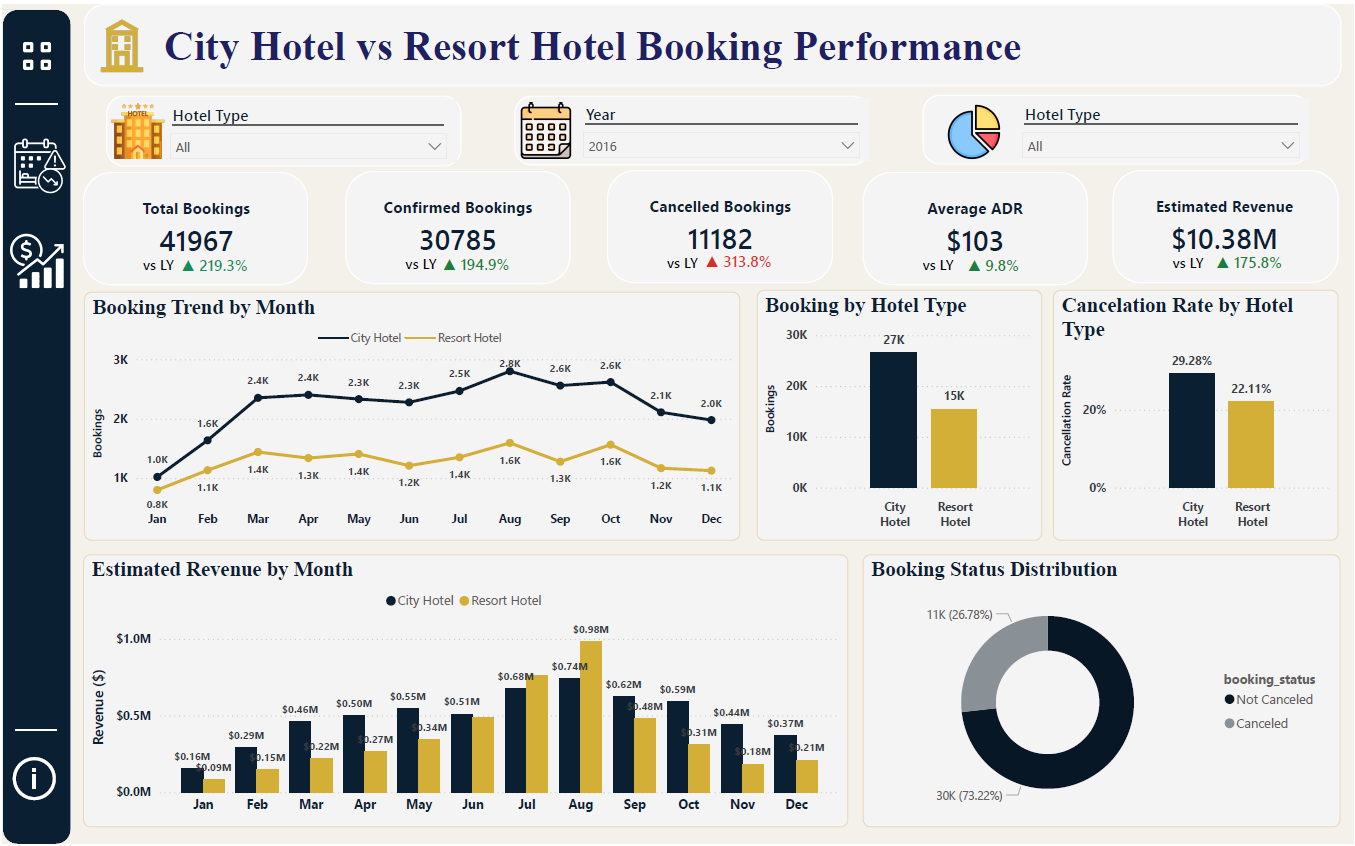

The dashboard page shown, as its layout file describes it:
{"tool":"powerbi","page":{"name":"Overview","canvas":[1400,870],"ordinal":0},"visuals":[{"type":"shape","box":[83.7,0,1303.1,85.2],"z":0},{"type":"image","box":[82.7,5.1,78.9,76.3],"z":1000},{"type":"textbox","box":[161.8,13.9,956.8,79.5],"z":2000},{"type":"shape","box":[0,5.8,70,864.5],"z":3000},{"type":"actionButton","box":[4.4,774.1,61.2,56.9],"z":4000},{"type":"image","box":[0,25.3,70,56.7],"z":5000},{"type":"image","box":[0,125,70,56],"z":6000},{"type":"image","box":[0,225,70,56],"z":7000},{"type":"image","box":[0,325,70,56],"z":8000},{"type":"image","box":[0,425,70,56],"z":9000},{"type":"shape","box":[13.3,82,43.4,43.4],"z":10000},{"type":"shape","box":[13.1,730.3,42.3,43.7],"z":11000},{"type":"shape","box":[107.1,95.3,368,72.4],"z":12000},{"type":"slicer","fields":{"Values":["public dim_hotel.hotel"]},"box":[162.6,98.9,307.6,63.9],"z":13000},{"type":"image","box":[107.1,102.5,65.1,57.9],"z":14000},{"type":"shape","box":[530.2,94.6,368,72.4],"z":15000},{"type":"slicer","fields":{"Values":["public dim_date.year"]},"box":[591.3,98.1,307.2,63.5],"z":16000},{"type":"image","box":[530.2,101.9,65.1,57.9],"z":17000},{"type":"shape","box":[952.7,93.5,401.5,72],"z":18000},{"type":"slicer","fields":{"Values":["public dim_hotel.hotel"]},"box":[1046.3,97.9,308,63.3],"z":19000},{"type":"image","box":[974.3,103.6,64.8,57.6],"z":20000},{"type":"shape","box":[82.8,173.8,233.6,116.8],"z":21000},{"type":"cardVisual","fields":{"Data":["fact_bookings.Total Bookings"]},"box":[89.6,180.6,221.4,100.5],"z":22000},{"type":"cardVisual","fields":{"Data":["fact_bookings.Total Bookings vs LY Label"]},"box":[127.7,232.2,183.4,65.2],"z":23000},{"type":"textbox","box":[139.9,254,48.9,36.7],"z":24000},{"type":"shape","box":[354.6,173,233.6,116.8],"z":25000},{"type":"cardVisual","fields":{"Data":["measure.Confirmed Bookings"]},"box":[361.4,179.8,221.4,100.5],"z":26000},{"type":"cardVisual","fields":{"Data":["measure.Confirmed Bookings vs LY Label"]},"box":[399.4,231.4,183.4,65.2],"z":27000},{"type":"textbox","box":[411.7,253.1,48.9,36.7],"z":28000},{"type":"shape","box":[626,171.8,233.6,116.8],"z":29000},{"type":"cardVisual","fields":{"Data":["measure.Cancelled Bookings"]},"box":[632.8,178.6,221.4,100.5],"z":30000},{"type":"cardVisual","fields":{"Data":["measure.Cancelled Bookings vs LY Label"]},"box":[670.9,228.2,183.6,65.5],"z":31000},{"type":"textbox","box":[683,251.9,48.9,36.7],"z":32000},{"type":"shape","box":[890.5,173.9,233.6,116.8],"z":33000},{"type":"cardVisual","fields":{"Data":["measure.Average ADR"]},"box":[897.3,180.7,221.4,100.5],"z":34000},{"type":"cardVisual","fields":{"Data":["measure.Average ADR vs LY Label"]},"box":[935.3,232.3,183.4,65.2],"z":35000},{"type":"textbox","box":[947.5,254.1,48.9,36.7],"z":36000},{"type":"shape","box":[1150.3,172.3,233.6,116.8],"z":37000},{"type":"cardVisual","fields":{"Data":["measure.Total Estimated Revenue"]},"box":[1155.9,178.8,220.6,100.9],"z":38000},{"type":"cardVisual","fields":{"Data":["measure.Total Estimated Revenue vs LY Label"]},"box":[1199.9,230.1,183.8,64.3],"z":39000},{"type":"textbox","box":[1207.3,252.4,48.9,36.7],"z":40000},{"type":"lineChart","title":"Booking Trend by Month","fields":{"Category":["dim_date.month_short"],"Y":["measure.Total Bookings"],"Series":["dim_hotel.hotel"]},"box":[83.7,298.5,680.6,258],"z":41000},{"type":"columnChart","title":"Booking by Hotel Type","fields":{"Category":["dim_hotel.hotel"],"Y":["measure.Total Bookings"]},"box":[781,295.7,295.7,260.8],"z":42000},{"type":"columnChart","title":"Cancelation Rate by Hotel Type","fields":{"Category":["dim_hotel.hotel"],"Y":["measure.Cancellation Rate"]},"box":[1087.9,295.7,295.7,260.8],"z":43000},{"type":"clusteredColumnChart","title":"Estimated Revenue by Month","fields":{"Category":["dim_date.month_short"],"Series":["dim_hotel.hotel"],"Y":["measure.Total Estimated Revenue"]},"box":[83.1,570,793,282.8],"z":44000},{"type":"donutChart","title":"Booking by Market Segment","fields":{"Category":["fact_bookings.booking_status"],"Y":["measure.Total Bookings"]},"box":[890.7,570,495.6,282.8],"z":45000}]}

Visuals, with their boxes on the page's 1400x870 design canvas (x1, y1, x2, y2). These are canvas units, not pixel positions in the 1355x846 screenshot, which may show the page scaled, cropped or inside an application window:
shape: [84, 0, 1387, 85]
image: [83, 5, 162, 81]
textbox: [162, 14, 1119, 93]
shape: [0, 6, 70, 870]
actionButton: [4, 774, 66, 831]
image: [0, 25, 70, 82]
image: [0, 125, 70, 181]
image: [0, 225, 70, 281]
image: [0, 325, 70, 381]
image: [0, 425, 70, 481]
shape: [13, 82, 57, 125]
shape: [13, 730, 55, 774]
shape: [107, 95, 475, 168]
slicer - public dim_hotel.hotel: [163, 99, 470, 163]
image: [107, 102, 172, 160]
shape: [530, 95, 898, 167]
slicer - public dim_date.year: [591, 98, 898, 162]
image: [530, 102, 595, 160]
shape: [953, 94, 1354, 166]
slicer - public dim_hotel.hotel: [1046, 98, 1354, 161]
image: [974, 104, 1039, 161]
shape: [83, 174, 316, 291]
cardVisual - fact_bookings.Total Bookings: [90, 181, 311, 281]
cardVisual - fact_bookings.Total Bookings vs LY Label: [128, 232, 311, 297]
textbox: [140, 254, 189, 291]
shape: [355, 173, 588, 290]
cardVisual - measure.Confirmed Bookings: [361, 180, 583, 280]
cardVisual - measure.Confirmed Bookings vs LY Label: [399, 231, 583, 297]
textbox: [412, 253, 461, 290]
shape: [626, 172, 860, 289]
cardVisual - measure.Cancelled Bookings: [633, 179, 854, 279]
cardVisual - measure.Cancelled Bookings vs LY Label: [671, 228, 854, 294]
textbox: [683, 252, 732, 289]
shape: [890, 174, 1124, 291]
cardVisual - measure.Average ADR: [897, 181, 1119, 281]
cardVisual - measure.Average ADR vs LY Label: [935, 232, 1119, 298]
textbox: [948, 254, 996, 291]
shape: [1150, 172, 1384, 289]
cardVisual - measure.Total Estimated Revenue: [1156, 179, 1376, 280]
cardVisual - measure.Total Estimated Revenue vs LY Label: [1200, 230, 1384, 294]
textbox: [1207, 252, 1256, 289]
"Booking Trend by Month" lineChart: [84, 298, 764, 556]
"Booking by Hotel Type" columnChart: [781, 296, 1077, 556]
"Cancelation Rate by Hotel Type" columnChart: [1088, 296, 1384, 556]
"Estimated Revenue by Month" clusteredColumnChart: [83, 570, 876, 853]
"Booking by Market Segment" donutChart: [891, 570, 1386, 853]
